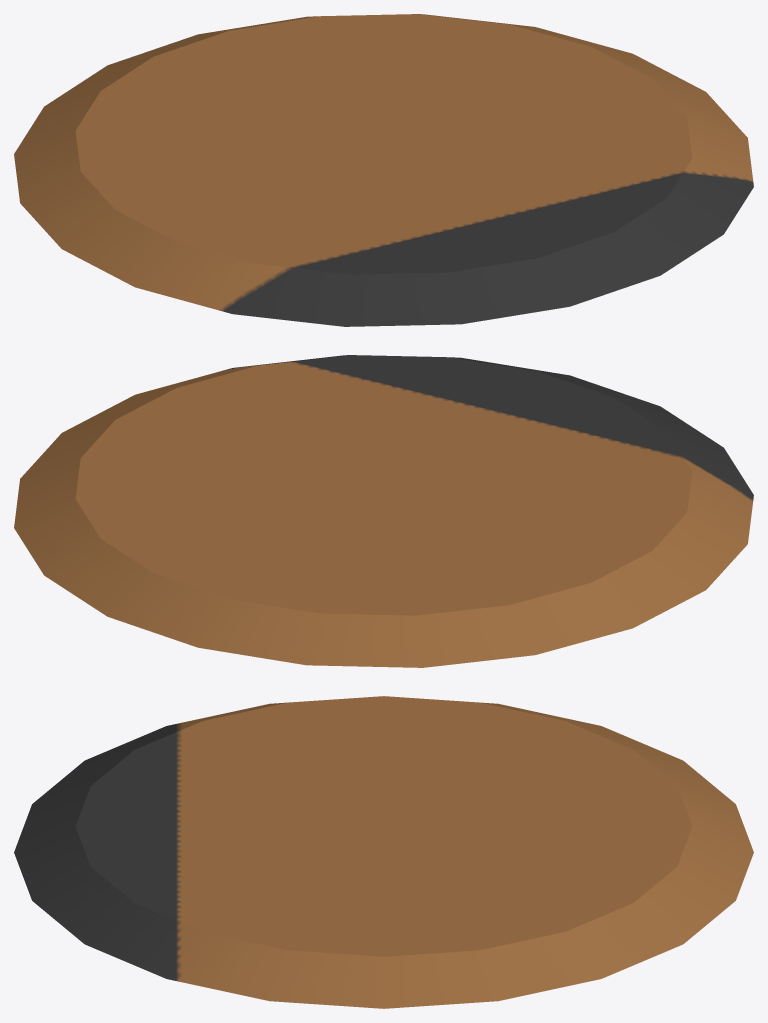
The model's file is Platform.fbx.
3 views of the same model, one above another, from view 1: azimuth 30°, elevation 25°; view 2: azimuth 150°, elevation 25°; view 3: azimuth 270°, elevation 25° (orthographic).
Visible parts, largest first — view 1: pCylinder5; view 2: pCylinder5; view 3: pCylinder5.
Part boxes in pixels (left/top/right/bottom): pCylinder5: left=14, top=14, right=753, bottom=326; pCylinder5: left=14, top=355, right=753, bottom=667; pCylinder5: left=14, top=696, right=753, bottom=1008.
Size of the model in its own units: 138 by 5.35 by 138.
